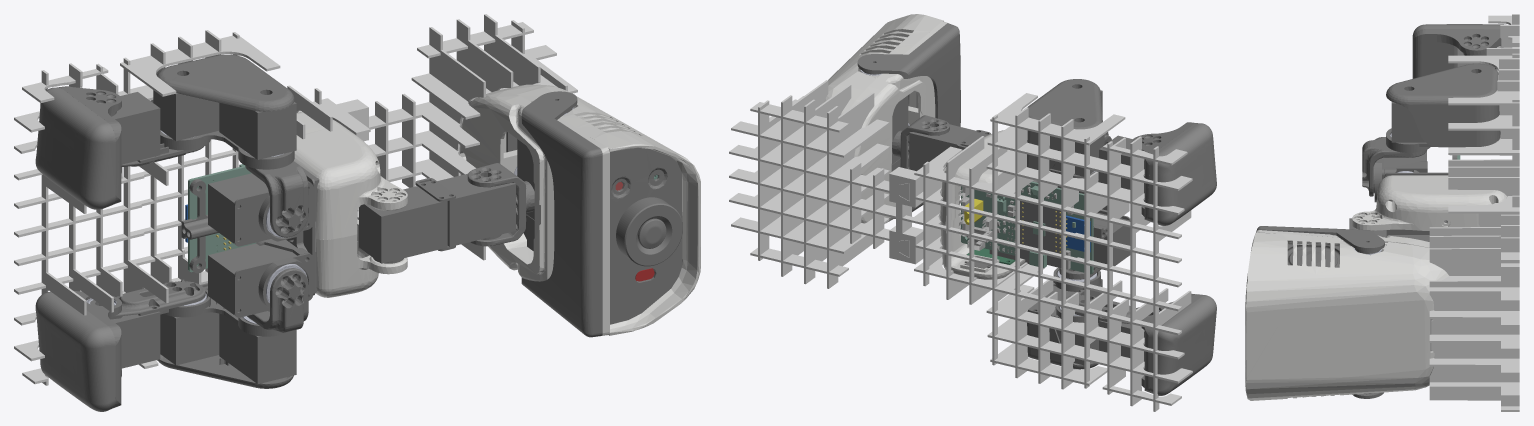
The model's file is jig_preview.glb.
3 renders of one model, left to right at view 1: azimuth 30°, elevation 25°; view 2: azimuth 150°, elevation 25°; view 3: azimuth 270°, elevation 25°, orthographic. The views are drawn at different scales.
Visible parts, largest first — view 1: robot:jaw_soft, jig_body, jig_head, robot:trunk_base, robot:upper_leg_right, robot:neck, robot:upper_leg_left, robot:ankle_right, robot:ankle_left, robot:yaw2roll, robot:bearing_roll, robot:leg (+5 smaller); view 2: jig_body, jig_head, robot:jaw_soft, robot:trunk_base, robot:ankle_right, robot:ankle_left, robot:upper_leg_right, robot:upper_leg_left, robot:neck, robot:neck_pitch, robot:yaw2roll, robot:leg (+2 smaller); view 3: robot:jaw_soft, jig_head, jig_body, robot:upper_leg_right, robot:trunk_base, robot:ankle_right, robot:hip_l_2, robot:bearing_roll.
Part boxes in pixels (<box>): robot:jaw_soft: <box>459,84,700,337</box>; jig_body: <box>14,30,370,385</box>; jig_head: <box>346,14,577,260</box>; robot:trunk_base: <box>181,112,407,297</box>; robot:upper_leg_right: <box>153,54,296,169</box>; robot:neck: <box>359,173,515,263</box>; robot:upper_leg_left: <box>157,283,296,388</box>; robot:ankle_right: <box>35,86,121,209</box>; robot:ankle_left: <box>35,291,121,411</box>; robot:yaw2roll: <box>208,239,313,317</box>; robot:bearing_roll: <box>208,173,313,246</box>; robot:leg: <box>86,279,205,368</box>; jig_body: <box>899,93,1192,411</box>; jig_head: <box>729,80,909,288</box>; robot:jaw_soft: <box>823,14,960,223</box>; robot:trunk_base: <box>940,130,1107,279</box>; robot:ankle_right: <box>1131,122,1216,225</box>; robot:ankle_left: <box>1136,293,1216,395</box>; robot:upper_leg_right: <box>1027,79,1104,179</box>; robot:upper_leg_left: <box>1027,267,1102,369</box>; robot:neck: <box>909,124,990,189</box>; robot:neck_pitch: <box>897,115,949,169</box>; robot:yaw2roll: <box>1093,209,1130,270</box>; robot:leg: <box>1061,293,1160,369</box>; robot:jaw_soft: <box>1245,226,1448,400</box>; jig_head: <box>1429,214,1519,411</box>; jig_body: <box>1448,14,1519,226</box>; robot:upper_leg_right: <box>1386,63,1500,152</box>; robot:trunk_base: <box>1352,155,1506,241</box>; robot:ankle_right: <box>1412,24,1506,78</box>; robot:hip_l_2: <box>1362,133,1426,196</box>; robot:bearing_roll: <box>1374,151,1427,202</box>.
Bounding box in the file's own units: 274 × 153 × 146.
